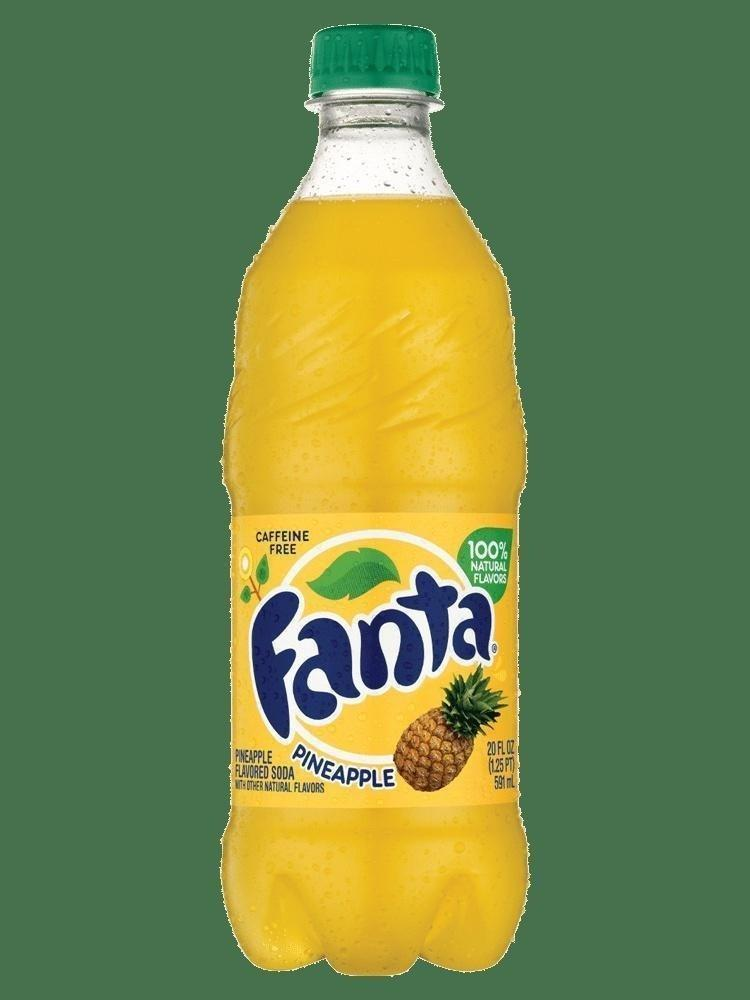bottle-plastic: (214, 10, 539, 988)
